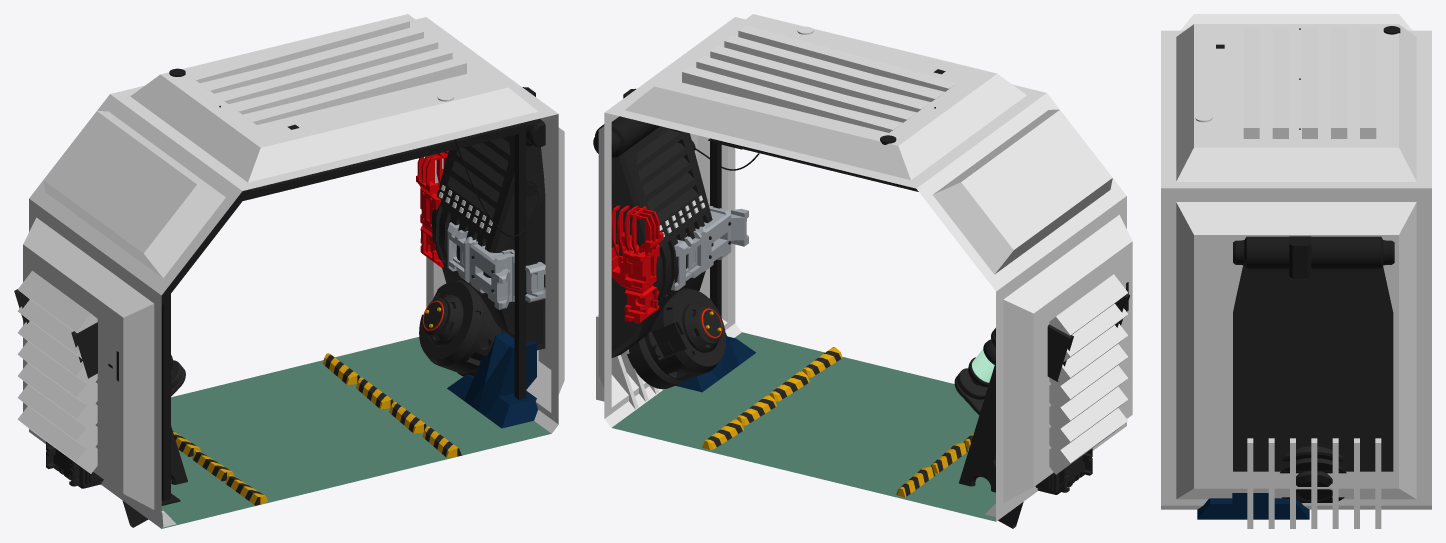
Rendered from arch_module_cell.fbx.
The picture shows the model from 3 angles, left to right: view 1: azimuth 30°, elevation 25°; view 2: azimuth 150°, elevation 25°; view 3: azimuth 270°, elevation 25°; orthographic projection. The views are drawn at different scales.
Visible parts, largest first — view 1: arch_module_cell; view 2: arch_module_cell; view 3: arch_module_cell.
Boxes of the visible parts, bbox=[...] form: arch_module_cell: bbox=[14, 14, 564, 528]; arch_module_cell: bbox=[593, 14, 1132, 528]; arch_module_cell: bbox=[1161, 14, 1431, 528].
Bounding box in the file's own units: 713 × 542 × 338.
